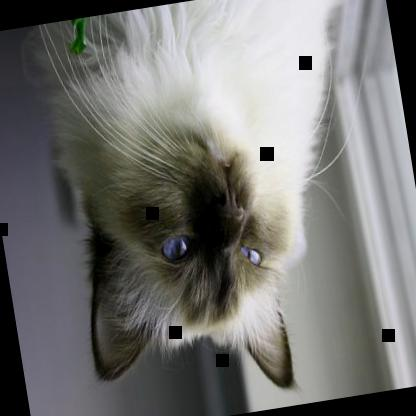cat: (39, 0, 392, 415)
